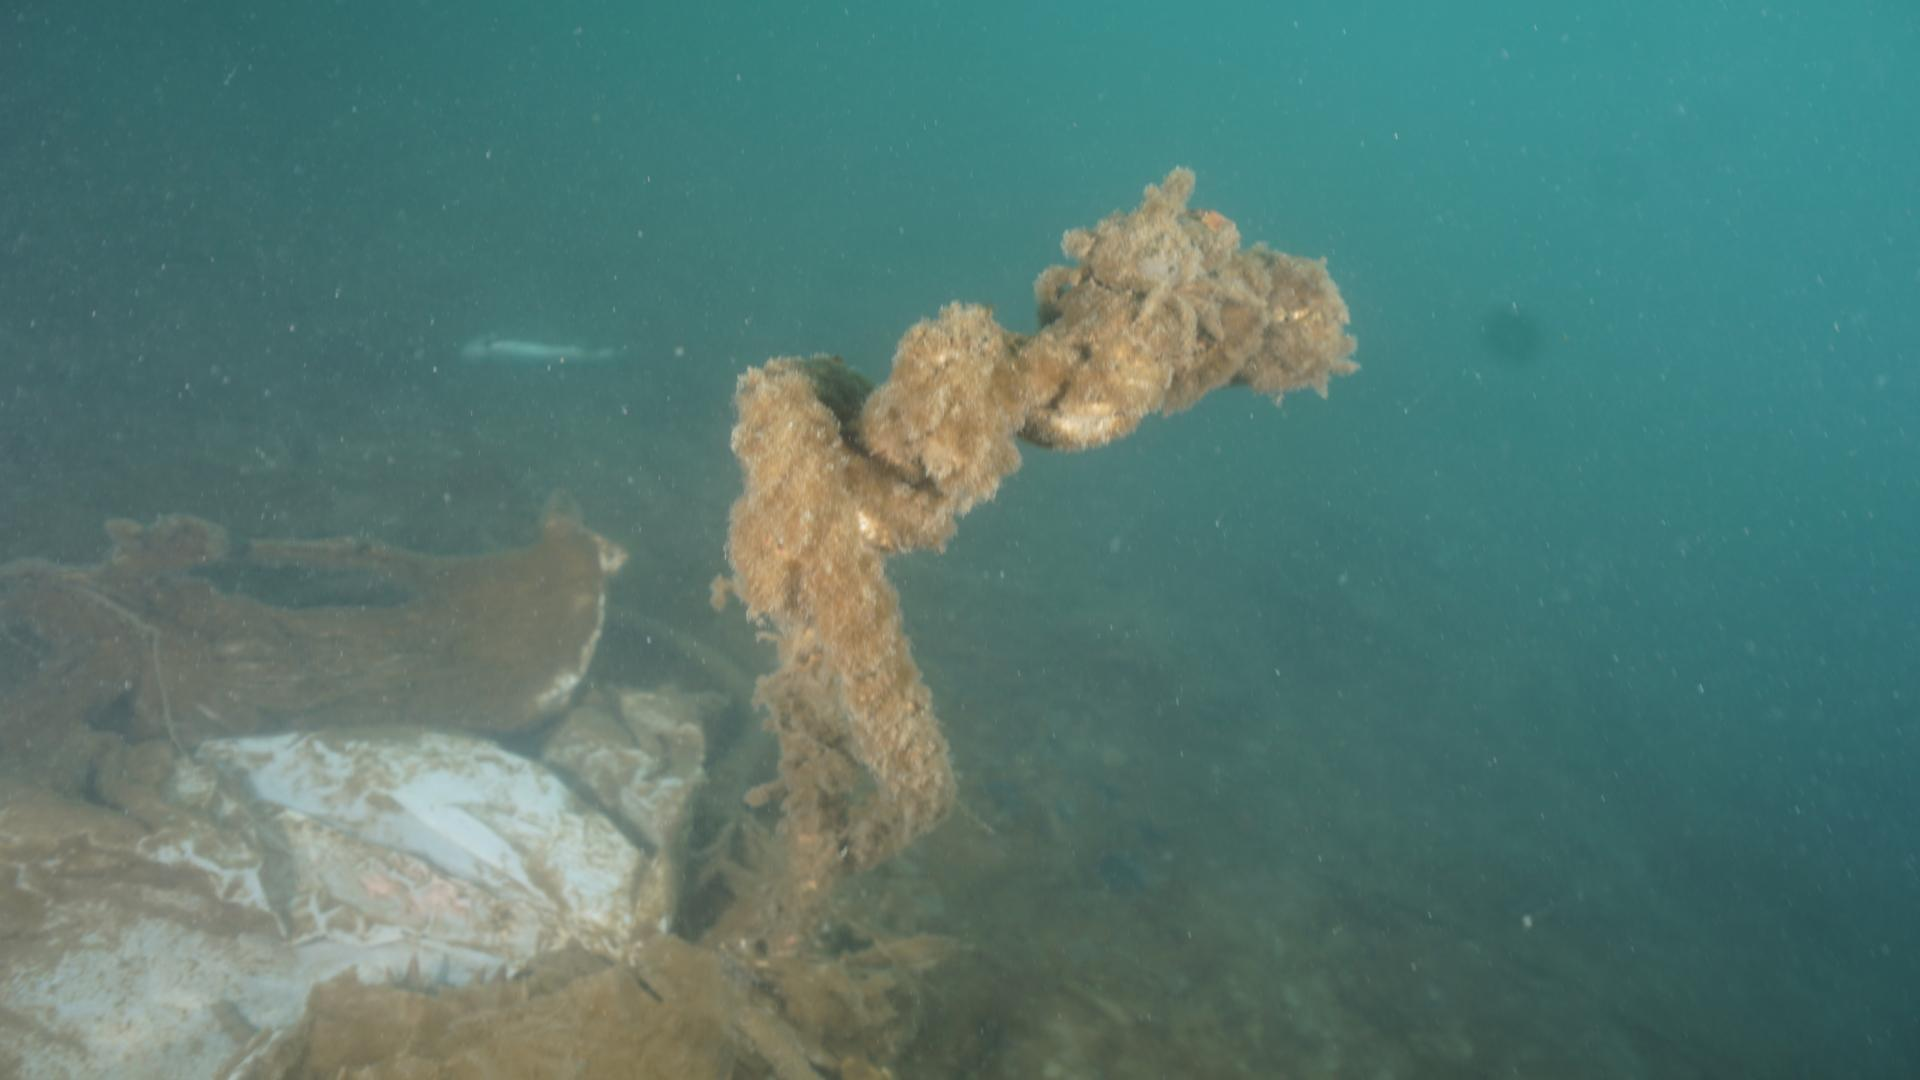bundle of ropes: (711, 165, 1365, 895)
